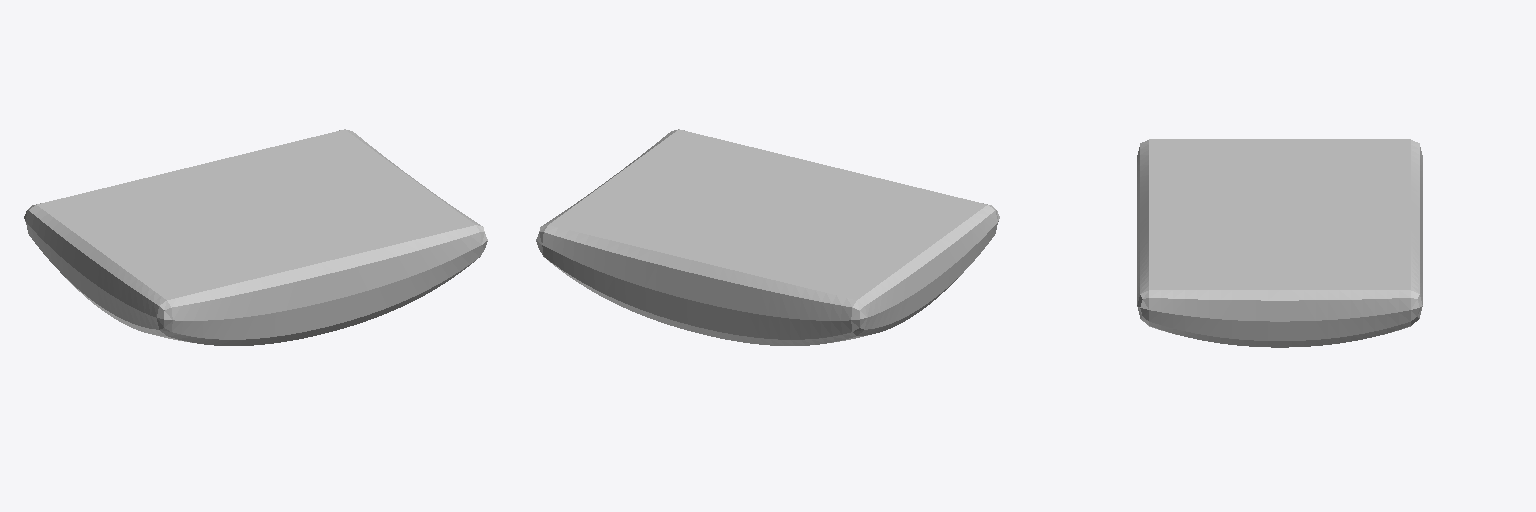
Rendered from screen.obj.
3 renders of one model, left to right at view 1: azimuth 30°, elevation 25°; view 2: azimuth 150°, elevation 25°; view 3: azimuth 270°, elevation 25°, orthographic.
Visible parts, largest first — view 1: Box01; view 2: Box01; view 3: Box01.
Part boxes in pixels (left/top/right/bottom): Box01: left=24, top=129, right=487, bottom=345; Box01: left=536, top=129, right=999, bottom=345; Box01: left=1137, top=139, right=1422, bottom=347.
Bounding box in the file's own units: 8.31 × 1.98 × 6.23.